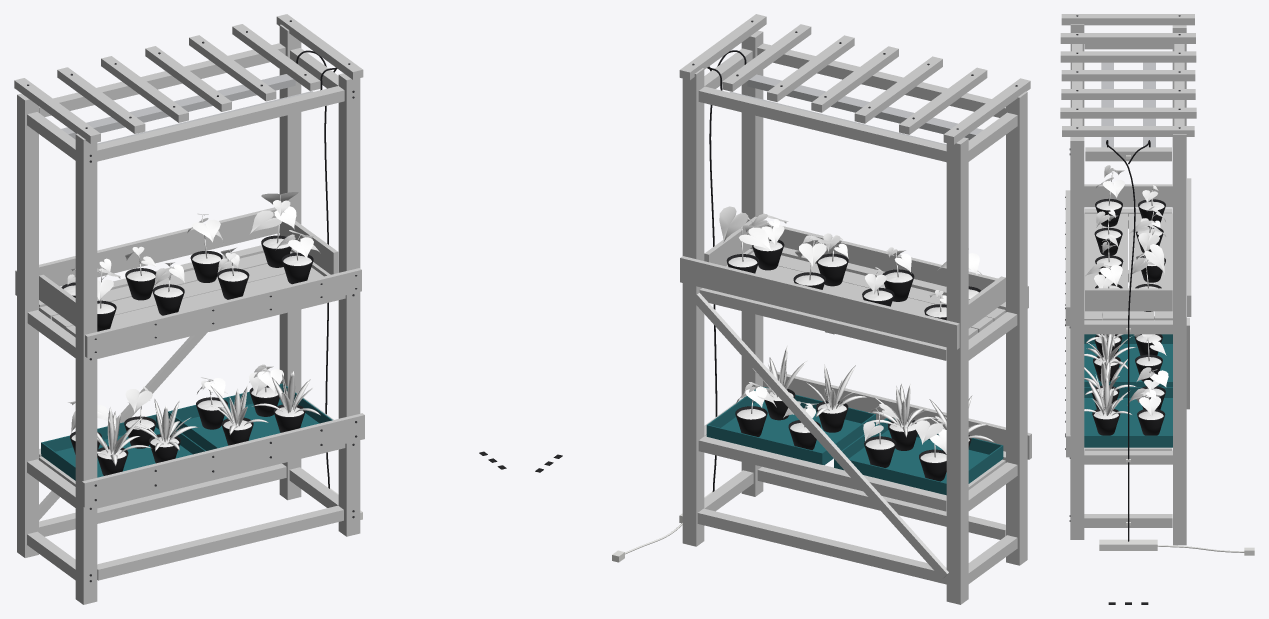
The model's file is plant-growing rack.glb.
3 views of the same model, side by side, from view 1: azimuth 30°, elevation 25°; view 2: azimuth 150°, elevation 25°; view 3: azimuth 270°, elevation 25° (orthographic). The views are drawn at different scales.
Parts seen in each view (by area): view 1: Vertical_Support_01, Vertical_Support_03, Vertical_Support_02, Lower_Shelf_Front_Board, Upper_Shelf_Front_Board, Vertical_Support_04, Upper_Shelf_Back_Board, Upper_Shelf, Beam_Top_Front, Beam_Bottom_Front, Beam_Bottom_Back, Growing_Tray_02 (+28 smaller); view 2: Vertical_Support_03, Vertical_Support_04, Vertical_Support_01, Upper_Shelf_Back_Board, Vertical_Support_02, Growing_Tray_02, Beam_Top_Back, Beam_Bottom_Back, Brace_Back_Diagonal, Growing_Tray_01, Beam_Lower_Back, Beam_Upper_Back (+27 smaller); view 3: Vertical_Support_02, Vertical_Support_04, Upper_Shelf, Growing_Tray_02, Upper_Shelf_Side_Board_R, Growing_Tray_01, Roof_Crossbeam_03, Roof_Crossbeam_06, Roof_Crossbeam_04, Roof_Crossbeam_01, Roof_Crossbeam_02, Roof_Crossbeam_05 (+36 smaller).
Part boxes in pixels (x1,y1,x2,y2): Vertical_Support_01: (75,133,97,604); Vertical_Support_03: (17,93,38,557); Vertical_Support_02: (338,73,360,536); Lower_Shelf_Front_Board: (82,413,364,507); Upper_Shelf_Front_Board: (85,268,361,358); Vertical_Support_04: (279,24,301,500); Upper_Shelf_Back_Board: (15,207,279,295); Upper_Shelf: (39,251,323,337); Beam_Top_Front: (97,86,344,161); Beam_Bottom_Front: (97,505,343,580); Beam_Bottom_Back: (39,463,286,536); Growing_Tray_02: (168,383,332,450); Vertical_Support_03: (946,137,968,604); Vertical_Support_04: (682,68,704,546); Vertical_Support_01: (1006,91,1027,565); Upper_Shelf_Back_Board: (680,256,959,349); Vertical_Support_02: (741,30,763,496); Growing_Tray_02: (706,387,875,465); Beam_Top_Back: (698,86,946,162); Beam_Bottom_Back: (697,508,946,584); Brace_Back_Diagonal: (692,293,948,578); Growing_Tray_01: (834,418,1003,495); Beam_Lower_Back: (698,436,946,511); Beam_Upper_Back: (699,288,946,360); Vertical_Support_02: (1070,137,1084,539); Vertical_Support_04: (1173,134,1186,545); Upper_Shelf: (1084,213,1172,320); Growing_Tray_02: (1084,387,1172,447); Upper_Shelf_Side_Board_R: (1085,288,1172,311); Growing_Tray_01: (1084,334,1172,386); Roof_Crossbeam_03: (1060,51,1196,62); Roof_Crossbeam_06: (1060,107,1196,118); Roof_Crossbeam_04: (1061,70,1195,81); Roof_Crossbeam_01: (1061,14,1194,25); Roof_Crossbeam_02: (1060,33,1195,43); Roof_Crossbeam_05: (1061,89,1195,99).
Size of what is drawn, in the model's own units: 1.94 by 1.97 by 0.836.
